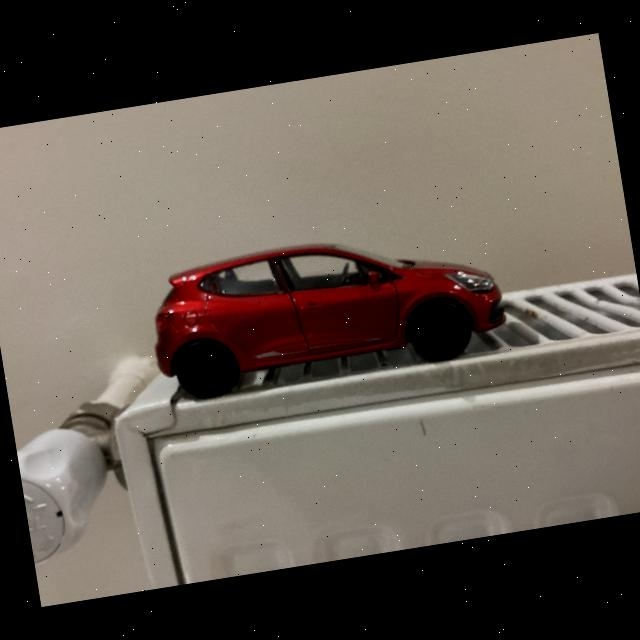Dogru_Jant: (179, 342, 232, 397), (416, 304, 466, 356)
